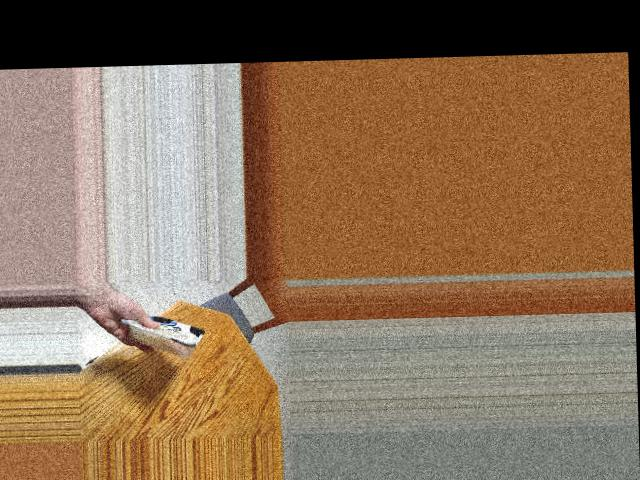cheese: (128, 300, 201, 363)
